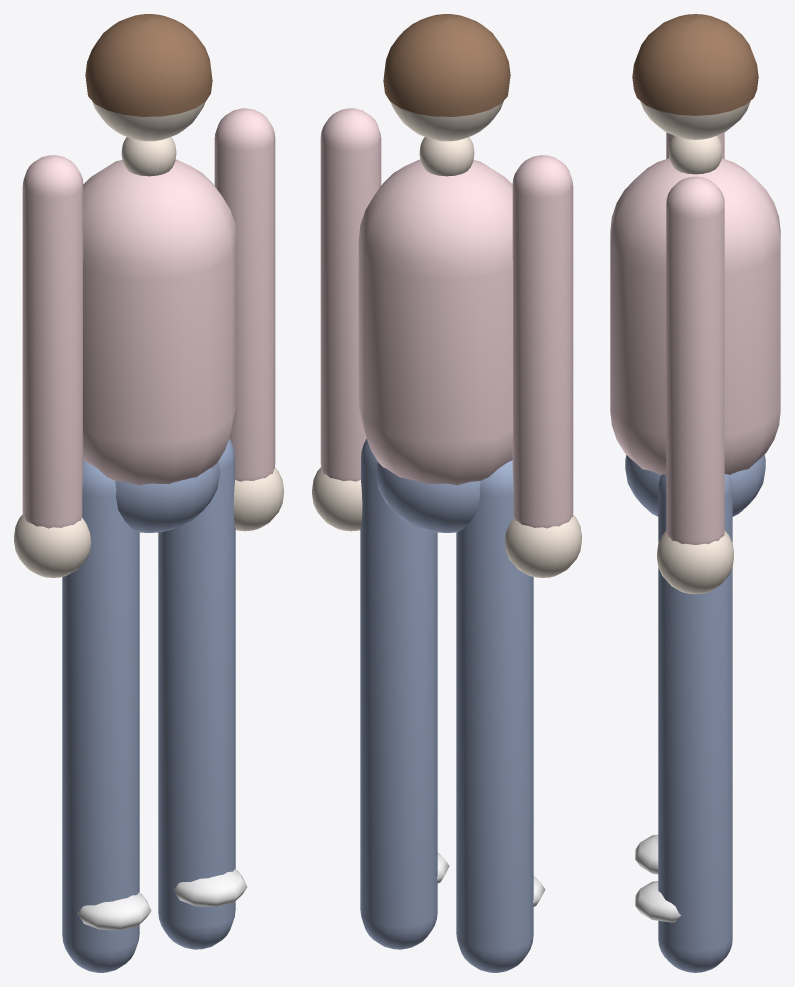
The model's file is female_casual_22.glb.
The picture shows the model from 3 angles, left to right: view 1: azimuth 30°, elevation 25°; view 2: azimuth 150°, elevation 25°; view 3: azimuth 270°, elevation 25°; orthographic projection.
Parts seen in each view (by area): view 1: torso, leg_l, leg_r, arm_l, arm_r, hair, hips, hand_l, hand_r, head, shoe_r, shoe_l (+1 smaller); view 2: torso, leg_l, leg_r, arm_l, arm_r, hair, hips, hand_l, hand_r, head, neck; view 3: torso, leg_r, arm_r, hair, hand_r, hips, head, neck, shoe_r, shoe_l.
Boxes of the visible parts, left/top/right/bottom form: torso: left=83, top=159, right=237, bottom=485; leg_l: left=62, top=460, right=139, bottom=972; leg_r: left=158, top=438, right=235, bottom=949; arm_l: left=22, top=155, right=83, bottom=528; arm_r: left=214, top=108, right=275, bottom=481; hair: left=85, top=14, right=212, bottom=116; hips: left=115, top=462, right=219, bottom=532; hand_l: left=14, top=514, right=91, bottom=577; hand_r: left=233, top=467, right=283, bottom=531; head: left=92, top=101, right=205, bottom=141; shoe_r: left=173, top=869, right=247, bottom=906; shoe_l: left=77, top=892, right=151, bottom=930; torso: left=358, top=159, right=512, bottom=485; leg_l: left=456, top=460, right=533, bottom=972; leg_r: left=360, top=438, right=437, bottom=949; arm_l: left=512, top=155, right=573, bottom=528; arm_r: left=320, top=108, right=381, bottom=481; hair: left=383, top=14, right=510, bottom=116; hips: left=376, top=462, right=480, bottom=532; hand_l: left=504, top=514, right=581, bottom=577; hand_r: left=312, top=467, right=362, bottom=531; head: left=390, top=101, right=503, bottom=141; neck: left=419, top=137, right=474, bottom=176; torso: left=610, top=158, right=780, bottom=474; leg_r: left=658, top=474, right=732, bottom=972; arm_r: left=666, top=176, right=724, bottom=544; hair: left=632, top=14, right=758, bottom=115; hand_r: left=657, top=531, right=733, bottom=594; hips: left=625, top=455, right=765, bottom=516; head: left=640, top=101, right=750, bottom=139; neck: left=668, top=135, right=722, bottom=174; shoe_r: left=635, top=881, right=681, bottom=922; shoe_l: left=635, top=834, right=658, bottom=874.
Size of the model in its own units: 0.4996 by 1.72 by 0.287.
